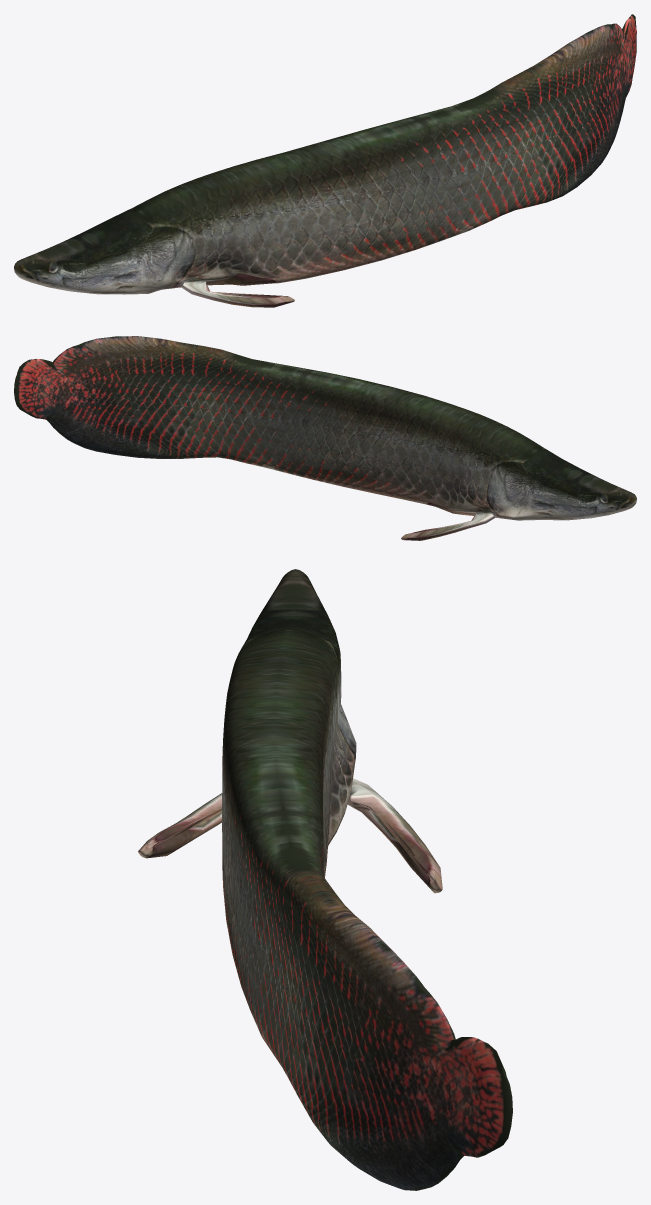
File: pez.glb
The picture shows the model from 3 angles, top to bottom: view 1: azimuth 30°, elevation 25°; view 2: azimuth 150°, elevation 25°; view 3: azimuth 270°, elevation 25°; orthographic projection. The views are drawn at different scales.
Parts seen in each view (by area): view 1: Plane002; view 2: Plane002; view 3: Plane002.
Boxes of the visible parts, x1,y1,x2,y2 form: Plane002: [14, 14, 636, 307]; Plane002: [14, 336, 636, 540]; Plane002: [138, 569, 512, 1190].
Bounding box in the file's own units: 26.57 × 5.42 × 7.59.
1 material, 1 textured.
